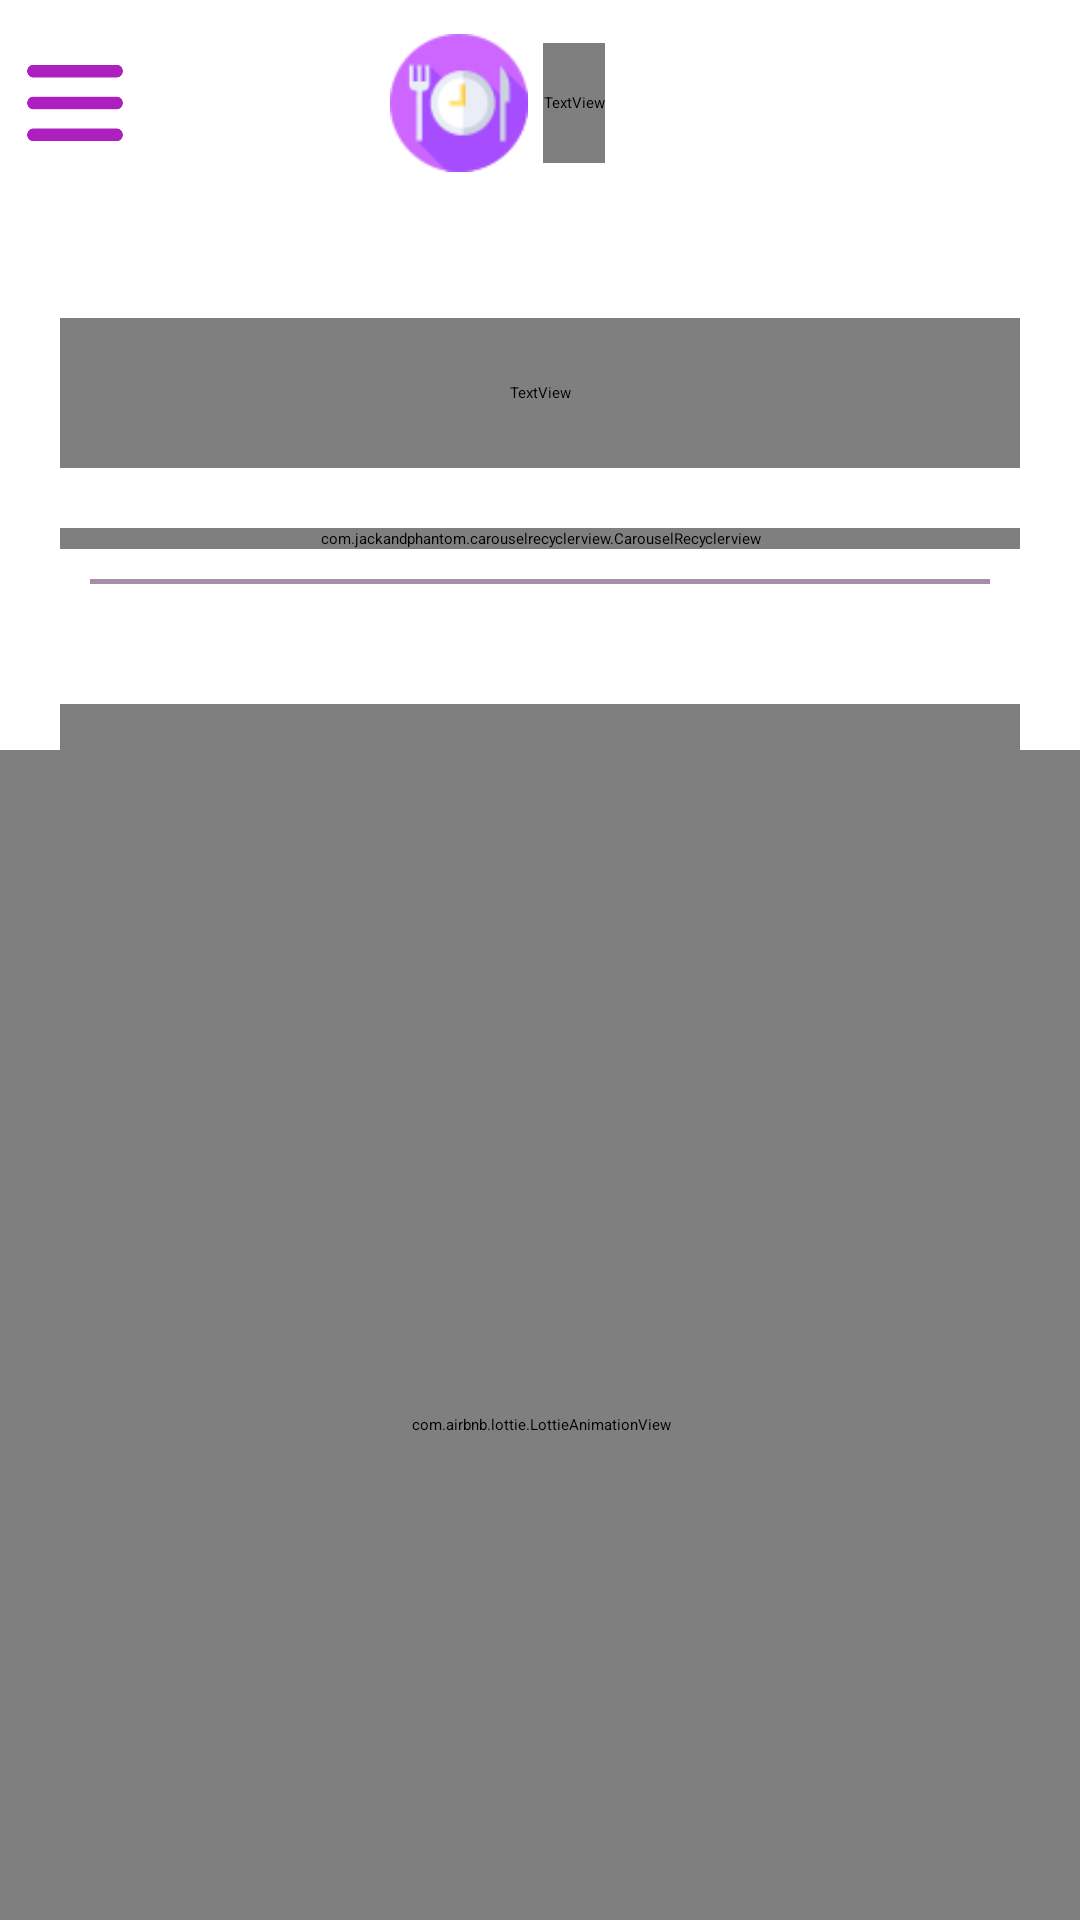

Locate icon controls on the screen. Image size 1080w x 1920h, boxes as {"x1": x1, "y1": y1, "x2": x2, "y2": y2}.
drawer: {"x1": 27, "y1": 65, "x2": 123, "y2": 141}
